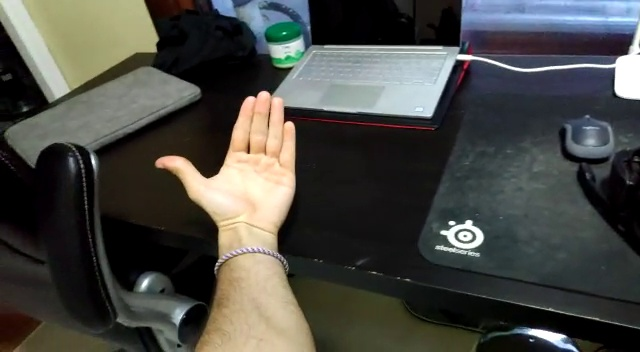Palm: (153, 88, 299, 231)
